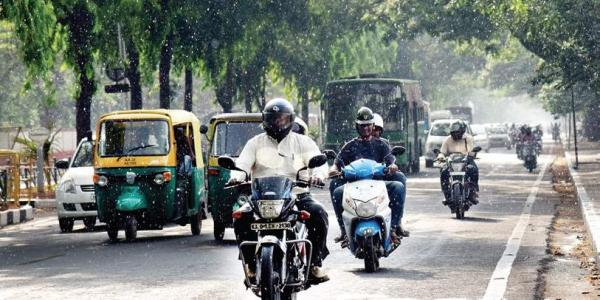car: (95, 109, 198, 246)
two_wheeler: (233, 103, 326, 300), (333, 107, 407, 270), (440, 120, 483, 220)
